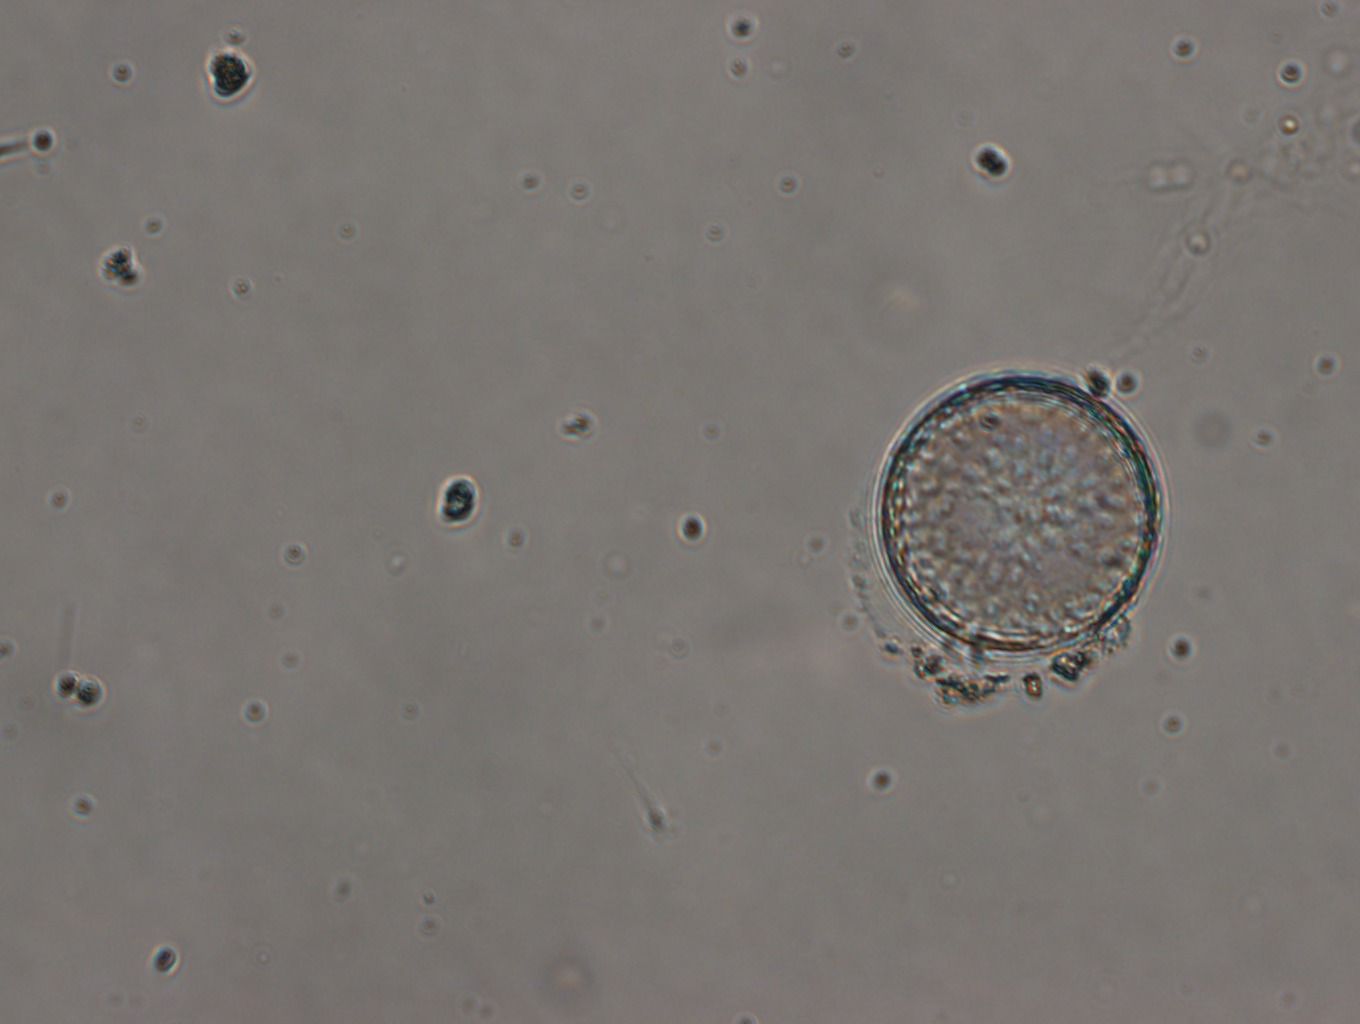coscinodiscus: (872, 371, 1164, 659)
